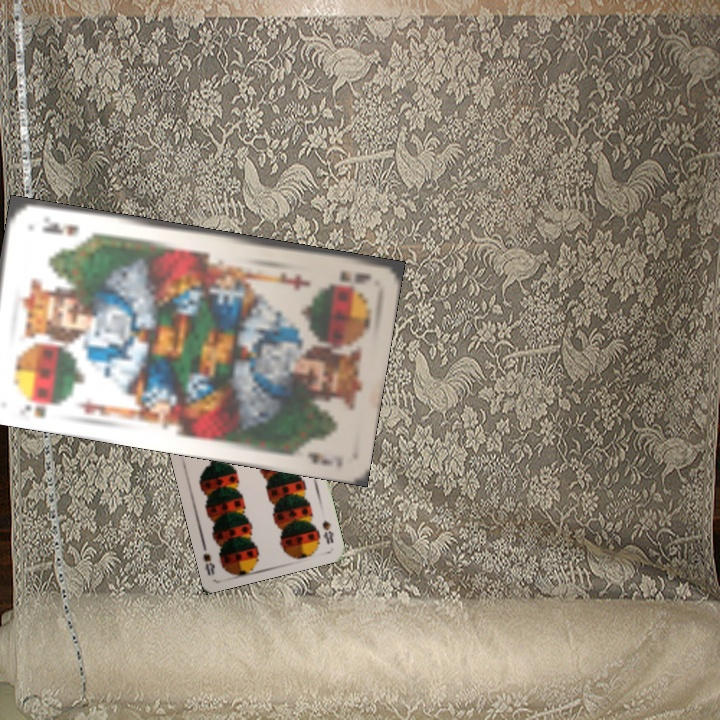S8: (318, 516, 336, 547)
SK: (15, 396, 60, 421), (336, 267, 374, 286)
